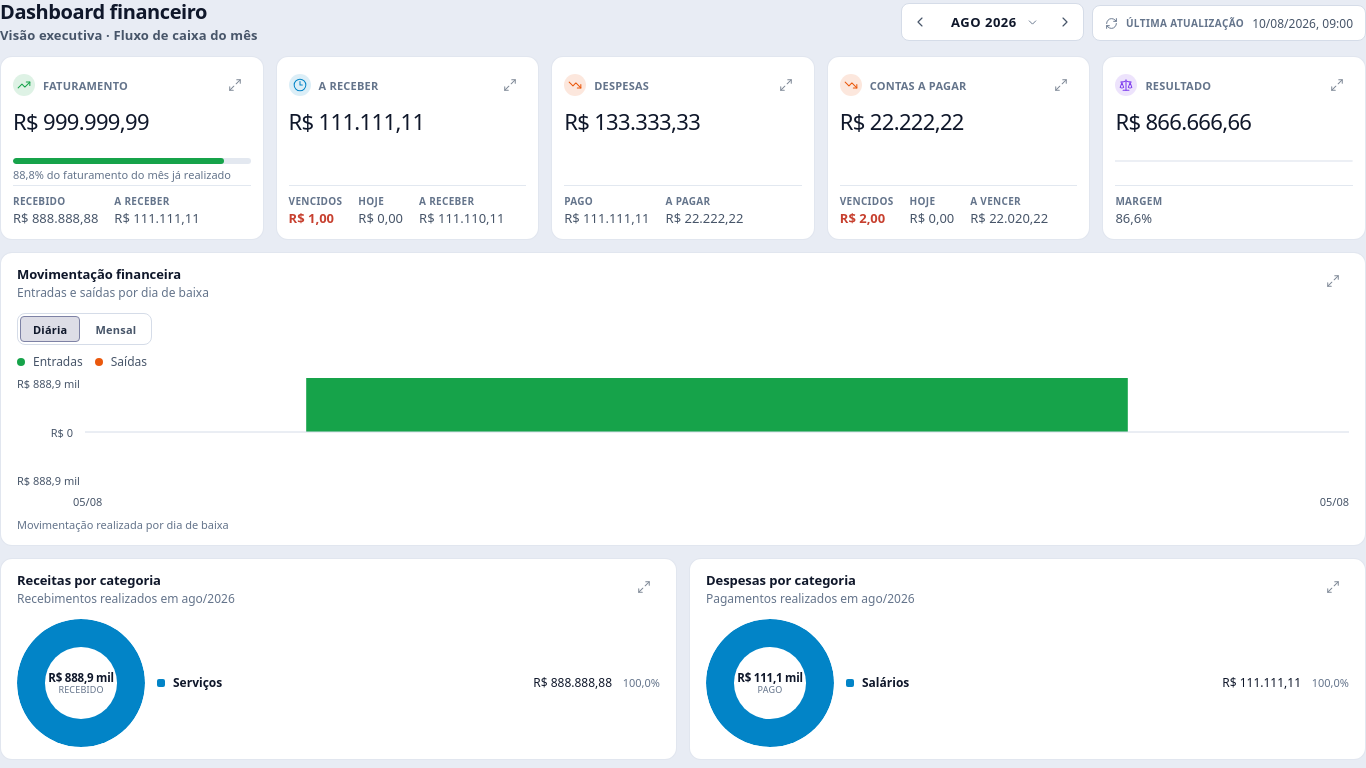
it: PRE-F13-HOME-POLISH-2 — drill-down e cobertura › P2-10 — Despesas abre via KPI
Expected: the button "Despesas" is shown, [551,56,815,240]
Step 1. Click the 3rd button named "Expandir" → (786, 85), box [770,69,802,101]
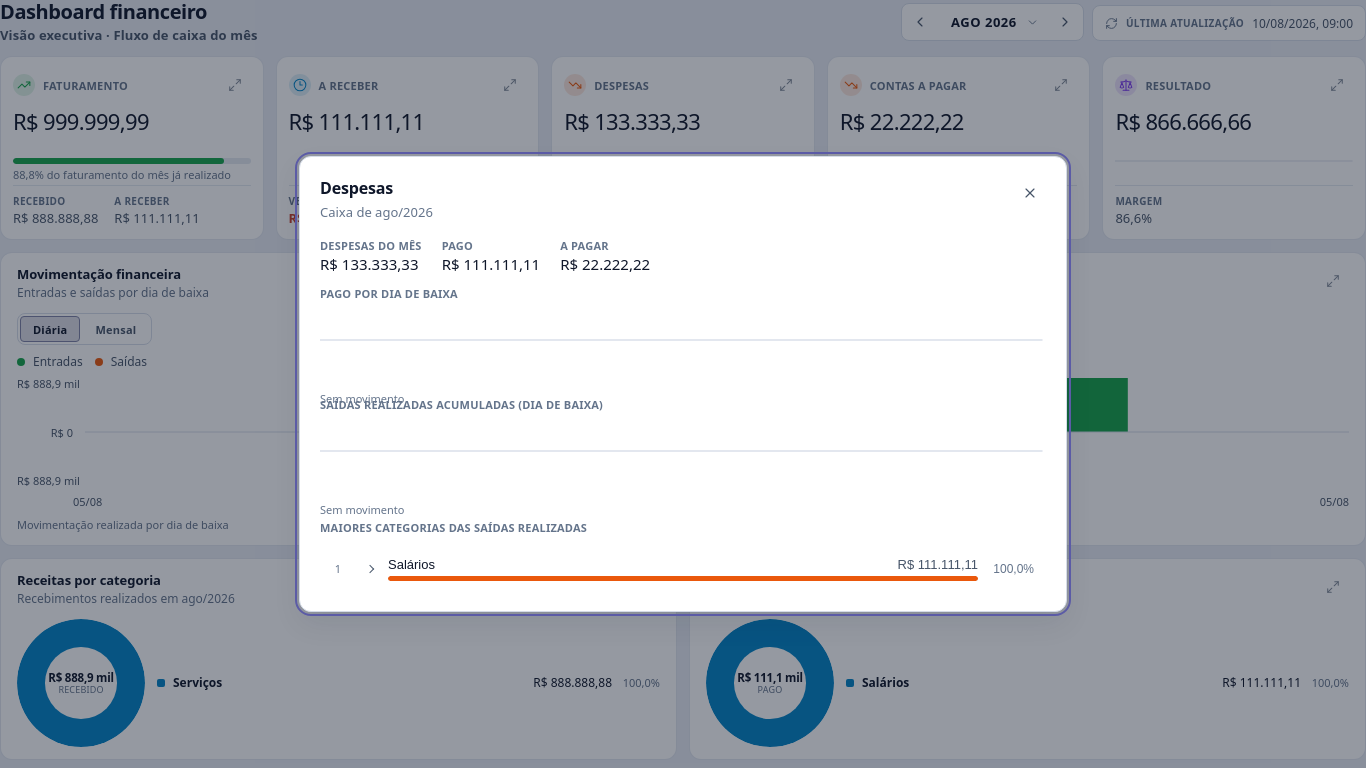
Expected: the heading "Despesas" is shown, [320,177,393,199]
Expected: the text "Pago" is shown, [442,238,473,253]
